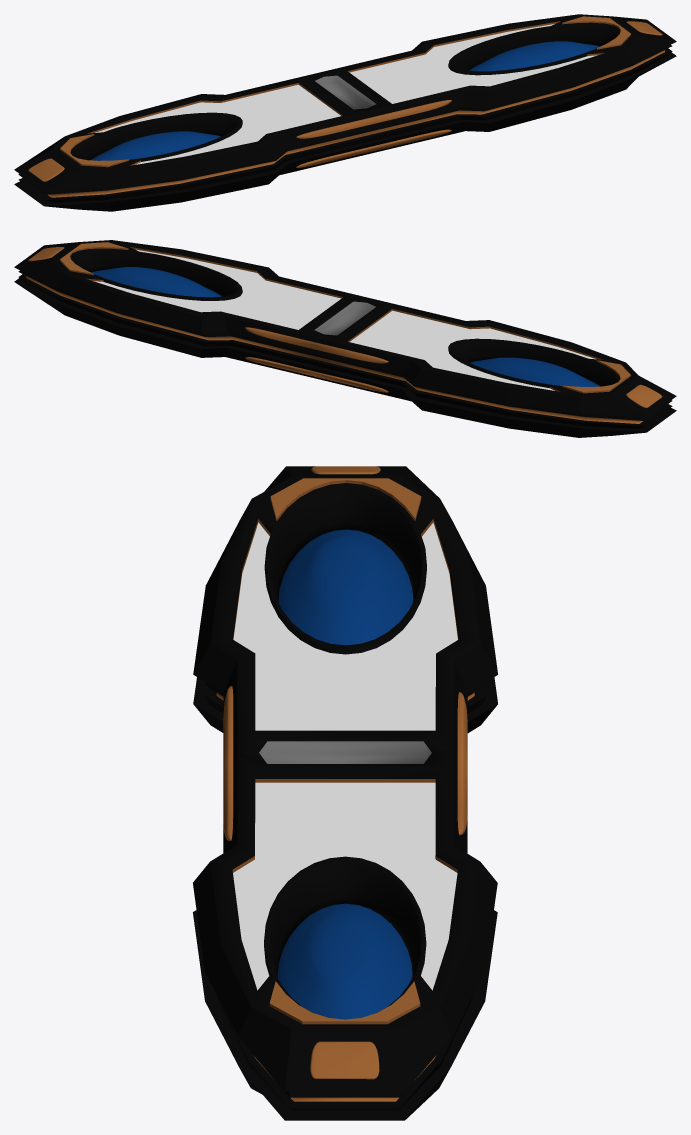
Rendered from Hoverboard.fbx.
3 views of the same model, one above another, from view 1: azimuth 30°, elevation 25°; view 2: azimuth 150°, elevation 25°; view 3: azimuth 270°, elevation 25° (orthographic). The views are drawn at different scales.
Parts seen in each view (by area): view 1: Cube_Cube.001; view 2: Cube_Cube.001; view 3: Cube_Cube.001.
Part boxes in pixels (x1,y1,x2,y2): Cube_Cube.001: (14, 14, 676, 211); Cube_Cube.001: (14, 240, 676, 437); Cube_Cube.001: (193, 466, 497, 1120).
Size of the model in its own units: 16212 by 1155 by 3388.
